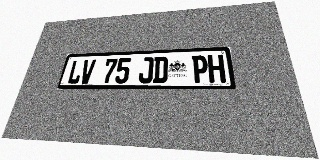5: (114, 58, 131, 83)
7: (101, 58, 118, 84)
D: (153, 56, 168, 83)
H: (207, 54, 226, 83)
J: (138, 57, 154, 83)
L: (66, 60, 84, 84)
P: (192, 55, 209, 83)
V: (79, 59, 96, 84)
